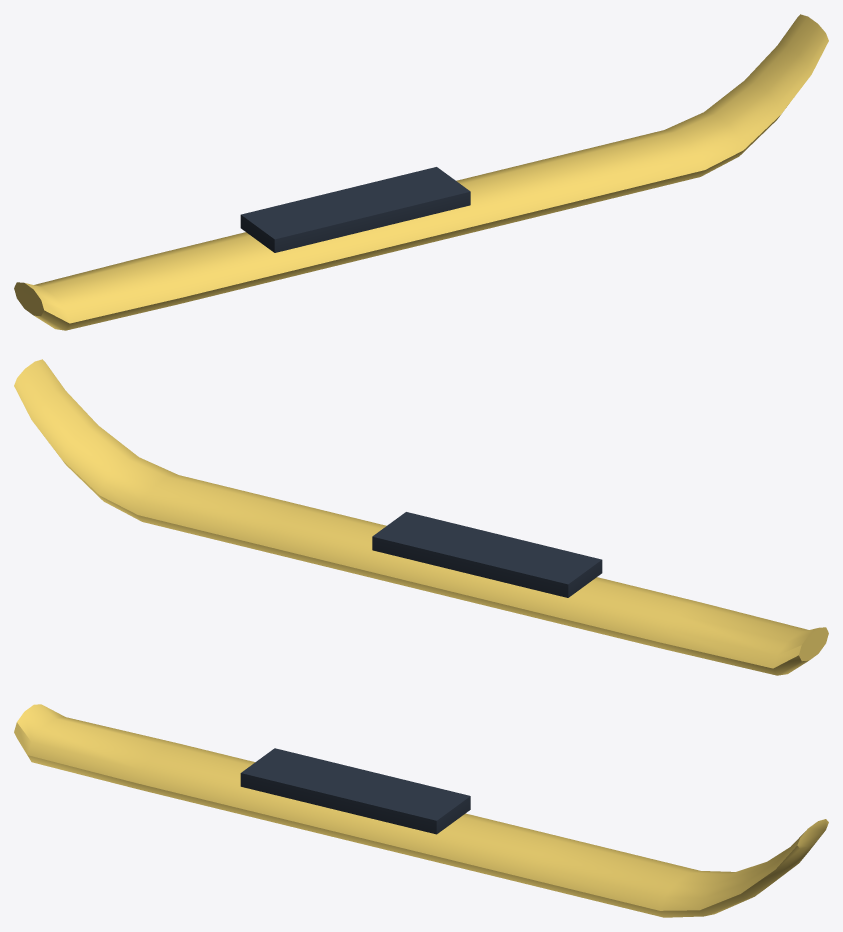
The model's file is ski.glb.
3 renders of one model, top to bottom at view 1: azimuth 30°, elevation 25°; view 2: azimuth 150°, elevation 25°; view 3: azimuth 330°, elevation 25°, orthographic.
Visible parts, largest first — view 1: trim, dark; view 2: trim, dark; view 3: trim, dark.
Boxes of the visible parts, x1,y1,x2,y2 form: trim: (14,14,828,330); dark: (240,167,470,252); trim: (14,359,828,675); dark: (372,512,602,597); trim: (14,704,828,917); dark: (240,748,470,834).
Size of the model in its own units: 1.2 by 0.1721 by 0.12.
